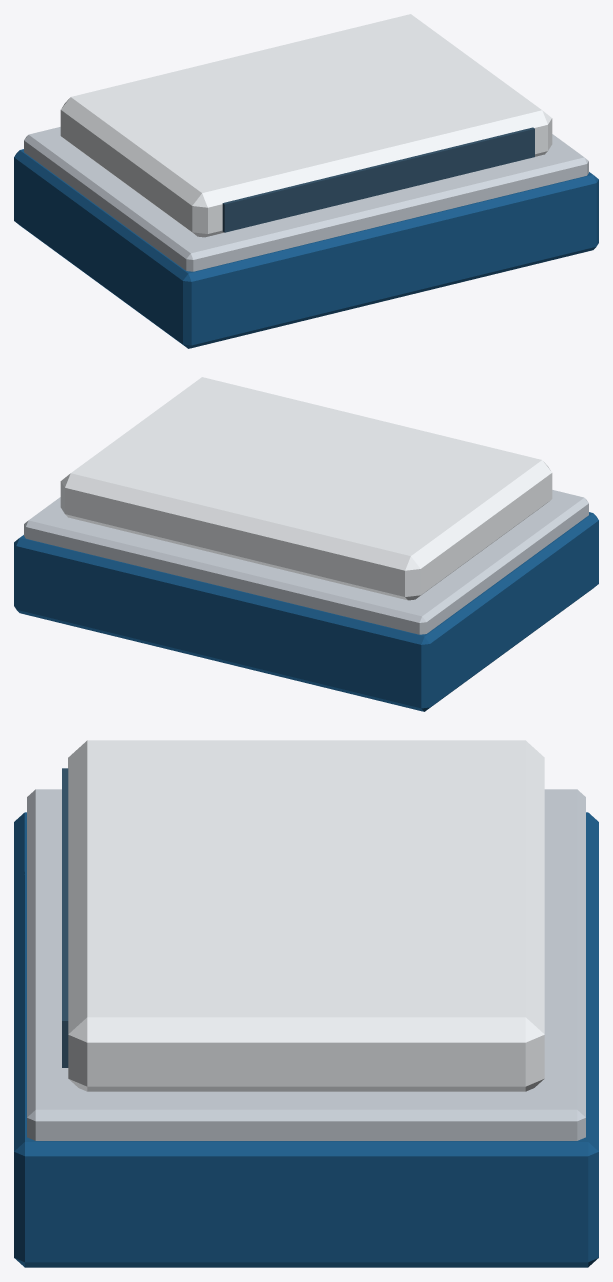
Rendered from SM_MPR3_RoofLight.fbx.
3 views of the same model, one above another, from view 1: azimuth 30°, elevation 25°; view 2: azimuth 150°, elevation 25°; view 3: azimuth 270°, elevation 25° (orthographic). The views are drawn at different scales.
Parts seen in each view (by area): view 1: SM_MPR3_RoofLight; view 2: SM_MPR3_RoofLight; view 3: SM_MPR3_RoofLight.
Part boxes in pixels (x1,y1,x2,y2): SM_MPR3_RoofLight: (14,14,598,348); SM_MPR3_RoofLight: (14,377,598,711); SM_MPR3_RoofLight: (14,740,598,1267).
Size of the model in its own units: 185 by 135 by 57.
